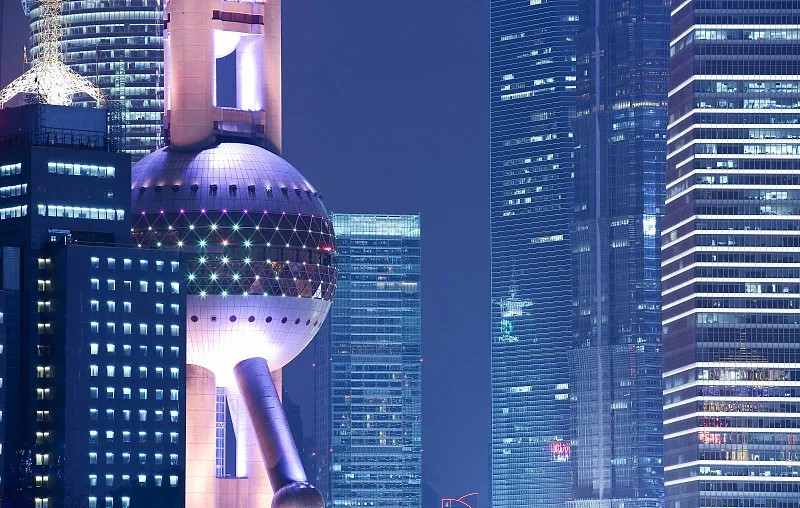Oriental: (130, 2, 338, 508)
